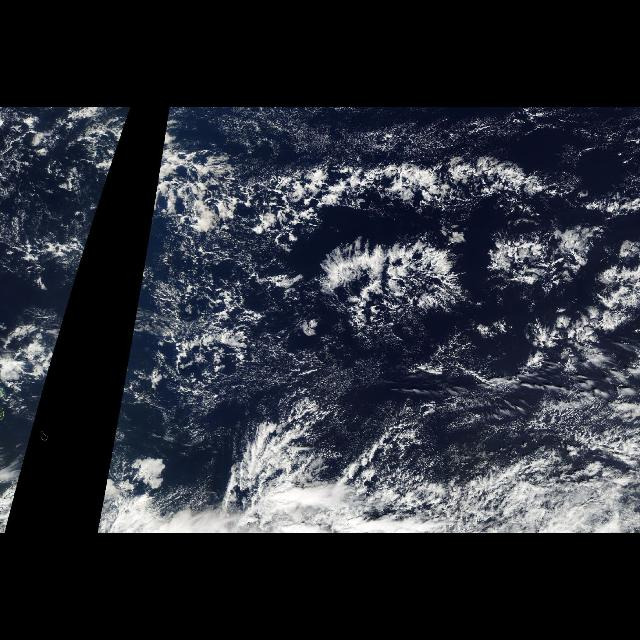Fish: (132, 109, 640, 393), (2, 110, 132, 340)
Sugar: (239, 113, 547, 155), (256, 341, 418, 412)
